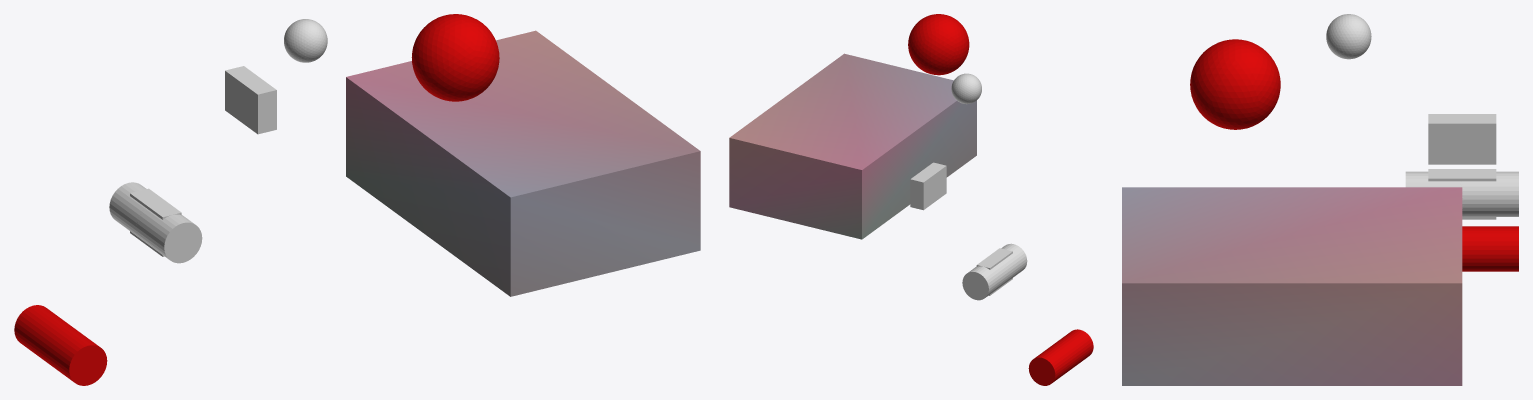
The picture shows the model from 3 angles, left to right: view 1: azimuth 30°, elevation 25°; view 2: azimuth 150°, elevation 25°; view 3: azimuth 270°, elevation 25°; orthographic projection. The views are drawn at different scales.
Visible parts, largest first — view 1: world; view 2: world; view 3: world.
Part boxes in pixels (x1,y1,x2,y2): world: (14,14,700,385); world: (729,14,1093,385); world: (1122,14,1518,385).
Size of the model in its own units: 26 by 18 by 17.5.
